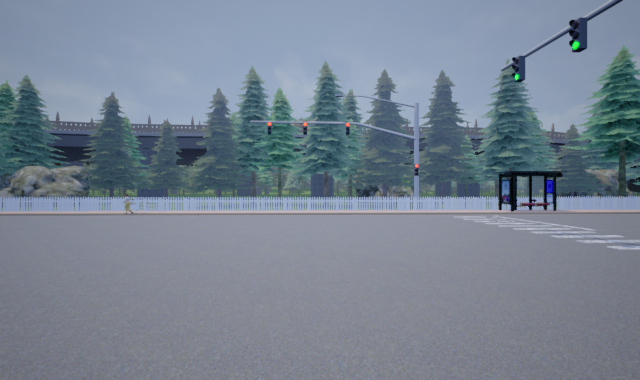pedestrian: (120, 192, 136, 213)
traffic_light: (568, 15, 589, 54), (511, 55, 526, 83), (302, 120, 308, 138), (413, 162, 420, 176), (267, 119, 273, 135), (345, 120, 351, 136)
